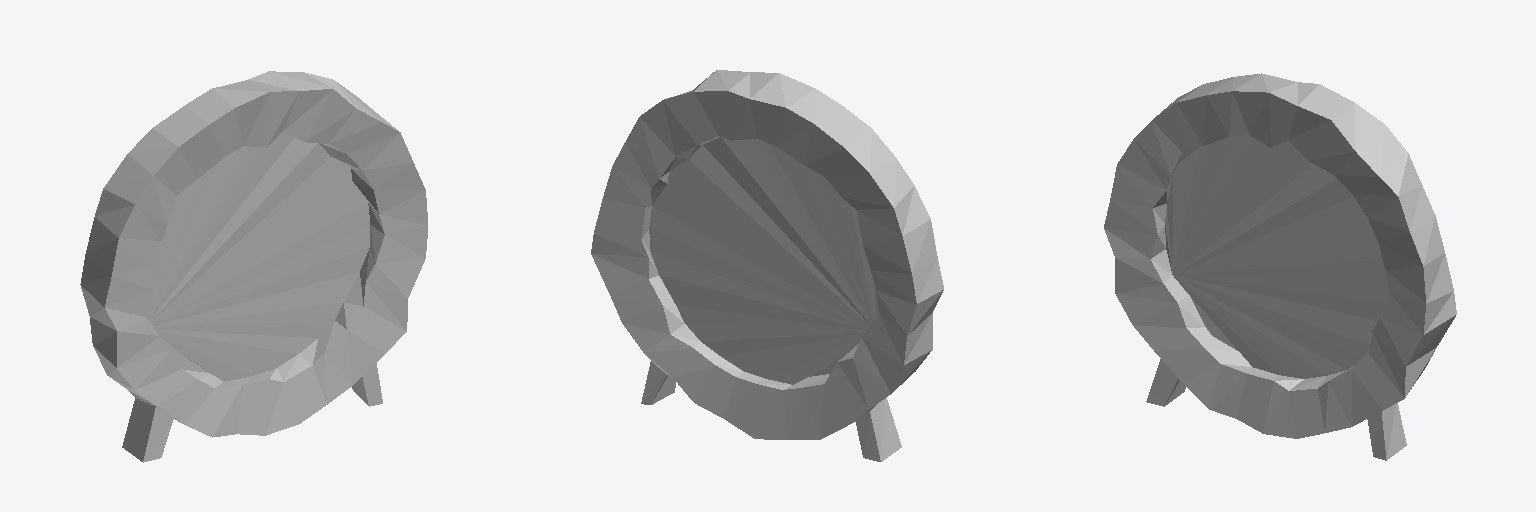
The model's file is portal.obj.
3 renders of one model, left to right at view 1: azimuth 30°, elevation 25°; view 2: azimuth 150°, elevation 25°; view 3: azimuth 330°, elevation 25°, orthographic.
Visible parts, largest first — view 1: Cylinder; view 2: Cylinder; view 3: Cylinder.
Part boxes in pixels (bbox=[...]): Cylinder: bbox=[80, 71, 427, 462]; Cylinder: bbox=[591, 70, 943, 461]; Cylinder: bbox=[1104, 73, 1456, 460].
Size of the model in its own units: 2.8 by 2.83 by 0.409.